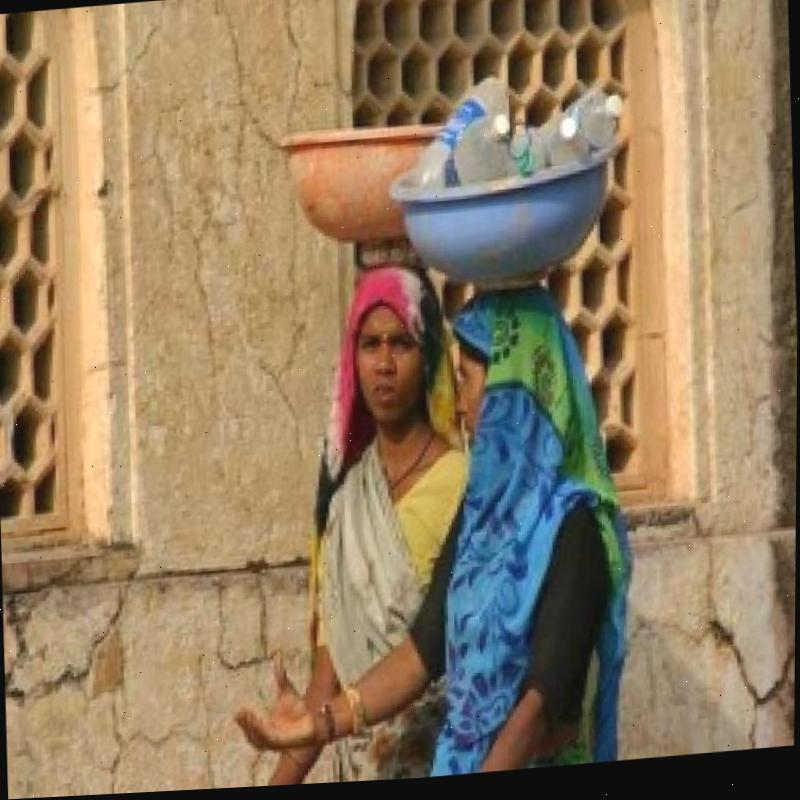botella: (415, 81, 510, 192), (554, 95, 625, 162), (452, 127, 509, 188), (547, 121, 591, 172), (509, 131, 549, 182)
